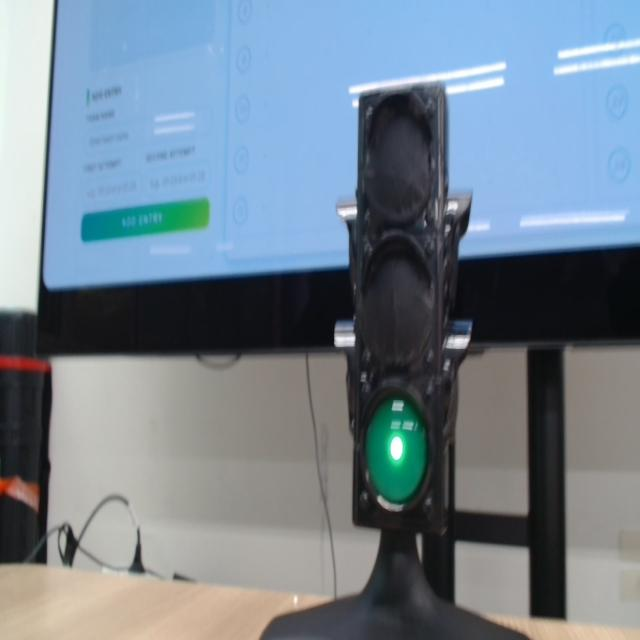green_light: (366, 395, 428, 504), (390, 436, 403, 461)
